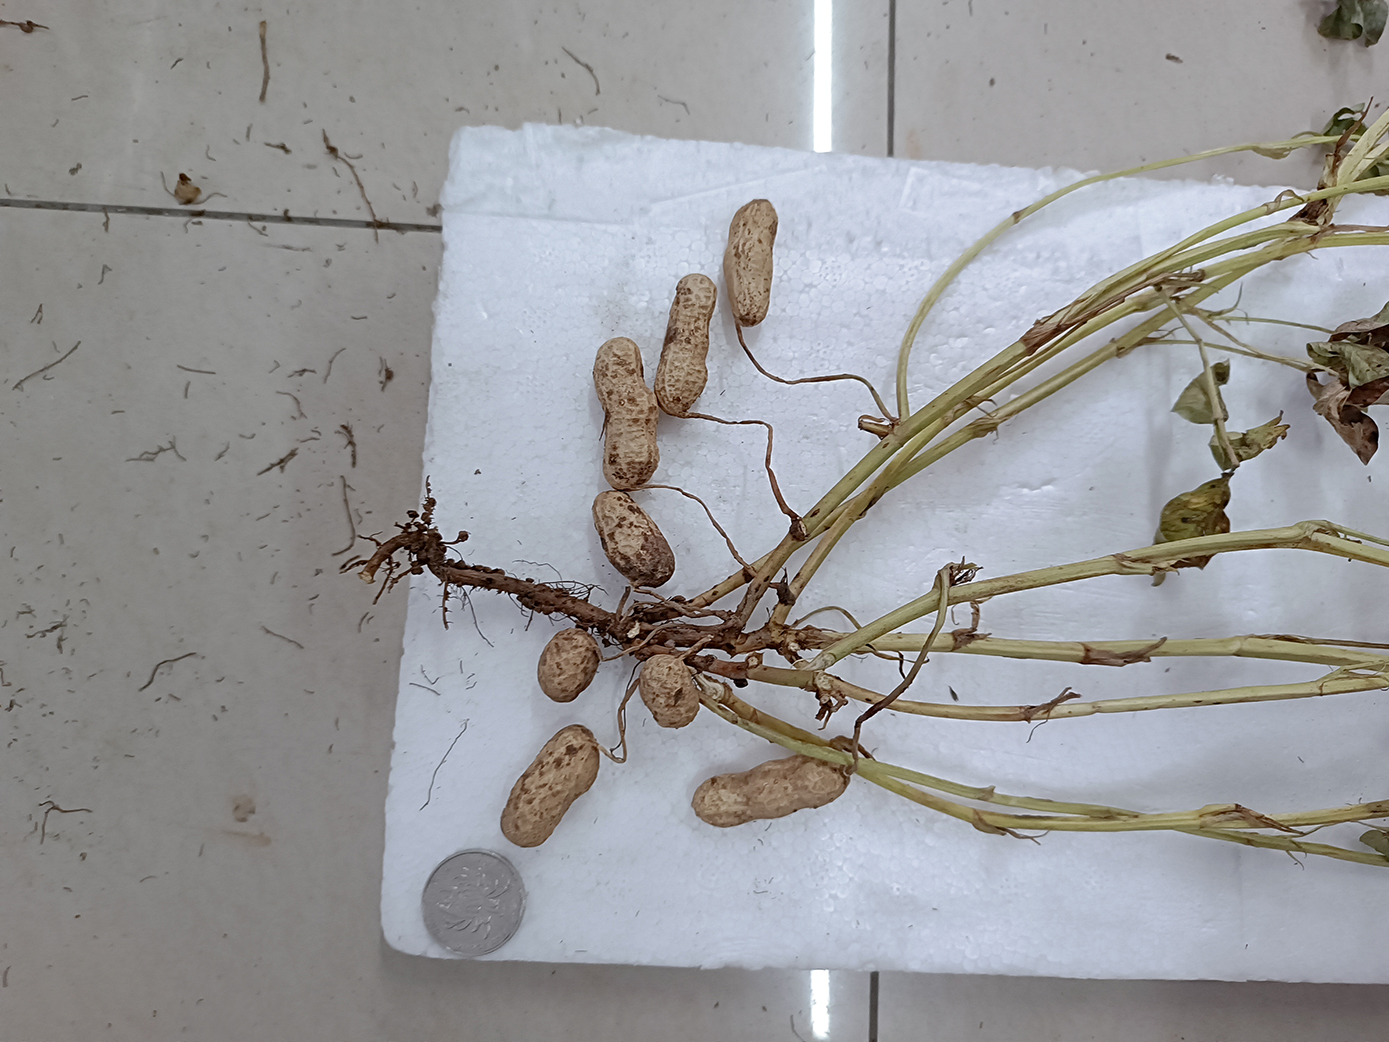h: (495, 722, 601, 848), (692, 755, 850, 829), (591, 338, 660, 490), (655, 275, 718, 416), (592, 493, 674, 587), (722, 199, 779, 323), (536, 628, 600, 704), (637, 656, 701, 729)
